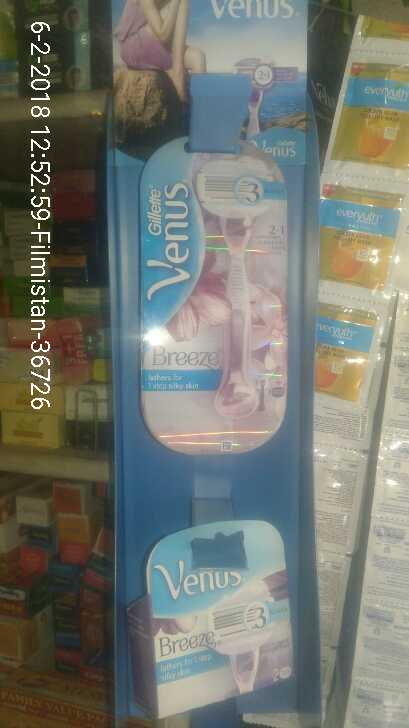venus: (133, 134, 291, 451), (144, 515, 303, 715)
